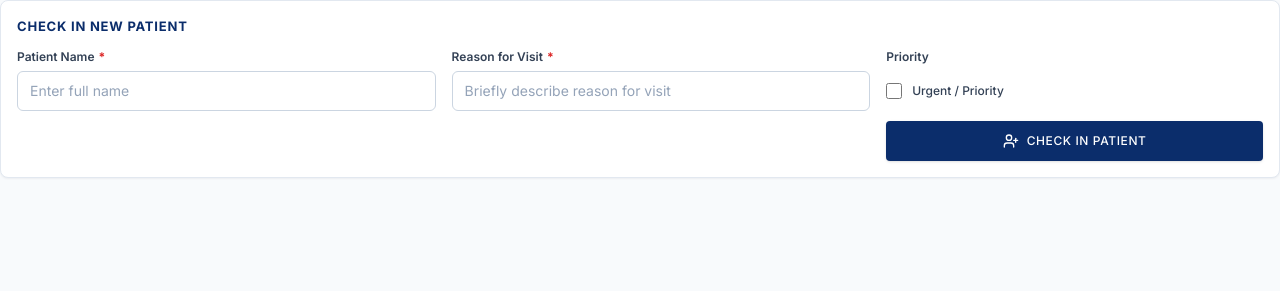
it: CheckInStrip Component › submits patient check-in and renders success alert banner on completion (covers: AC-1, AC-6)
In the field labelled "Patient Name *": (226, 90) [17,70,436,110], type "Tendai Chikore"
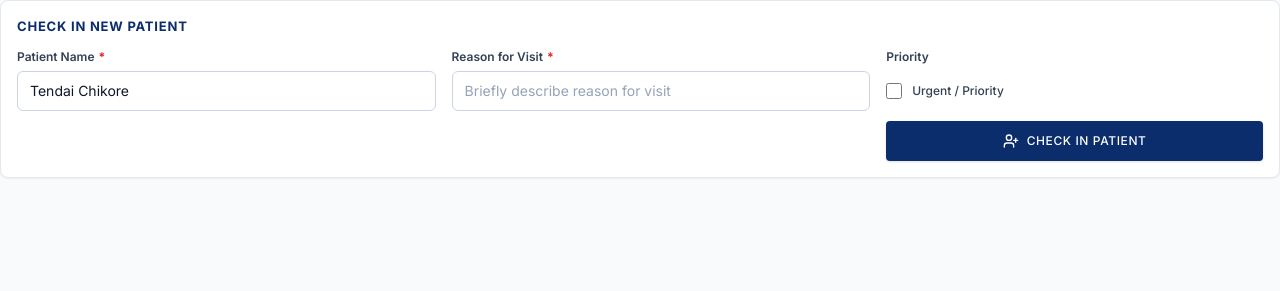
In the field labelled "Reason for Visit *": (661, 90) [452,70,870,110], type "Severe Headache"
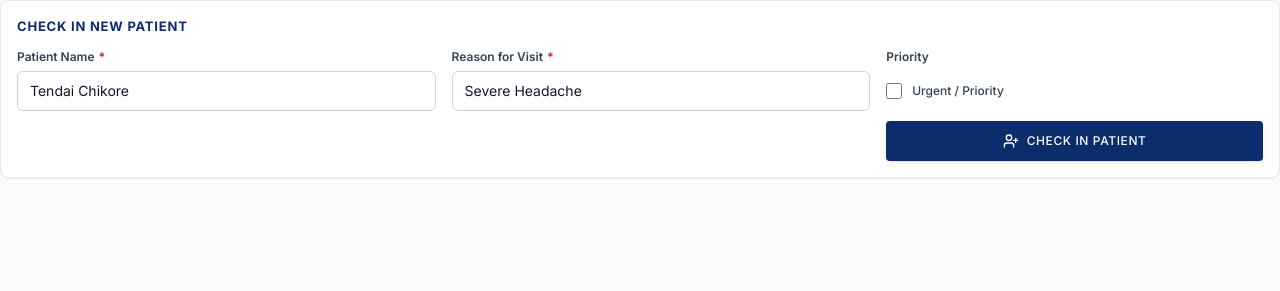
Click the button "CHECK IN PATIENT": (1075, 140) [886,120,1263,160]
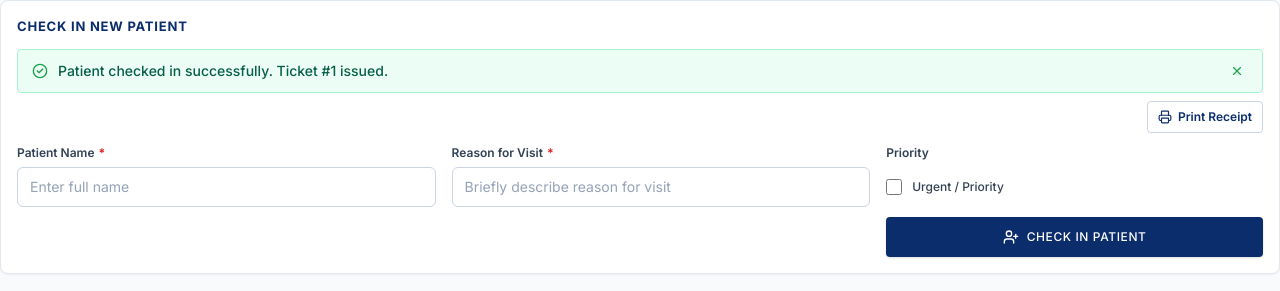
expect the text "Patient checked in successfully. Ticket #1 issued." is shown: met, box [58,62,388,79]
